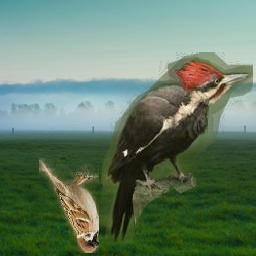Sparrow: (39, 159, 99, 254)
Woodpecker: (95, 52, 253, 244)
